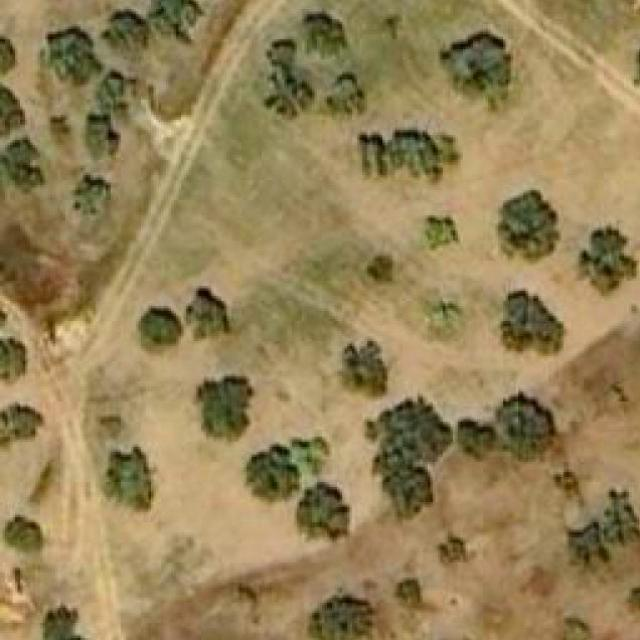Tree: (438, 29, 513, 113), (357, 127, 461, 185), (370, 396, 454, 465), (496, 188, 560, 264), (493, 291, 567, 356), (196, 374, 260, 448), (265, 39, 318, 123), (496, 394, 562, 460), (579, 227, 637, 296), (45, 27, 101, 91), (332, 338, 385, 397), (297, 484, 350, 542), (306, 594, 372, 640), (106, 447, 154, 510), (595, 484, 640, 547), (0, 137, 45, 198), (246, 445, 300, 495), (385, 467, 433, 521), (186, 286, 232, 339), (150, 0, 204, 44), (0, 403, 48, 451), (101, 9, 151, 54), (302, 12, 347, 57), (43, 603, 97, 640), (566, 522, 608, 566), (324, 74, 362, 118), (139, 306, 182, 344), (84, 112, 116, 160), (72, 175, 110, 215), (458, 422, 498, 460), (423, 301, 463, 339), (0, 336, 28, 390), (0, 79, 25, 138), (98, 72, 132, 113), (5, 516, 43, 550), (426, 216, 461, 250), (438, 536, 476, 566), (50, 115, 76, 158), (392, 578, 420, 608), (562, 615, 592, 640), (368, 256, 392, 284), (0, 38, 18, 72)
